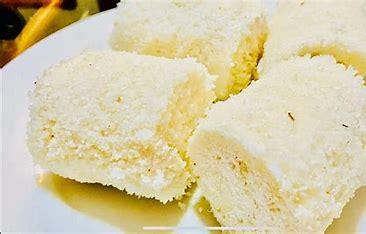Pittu: (26, 13, 360, 225)
